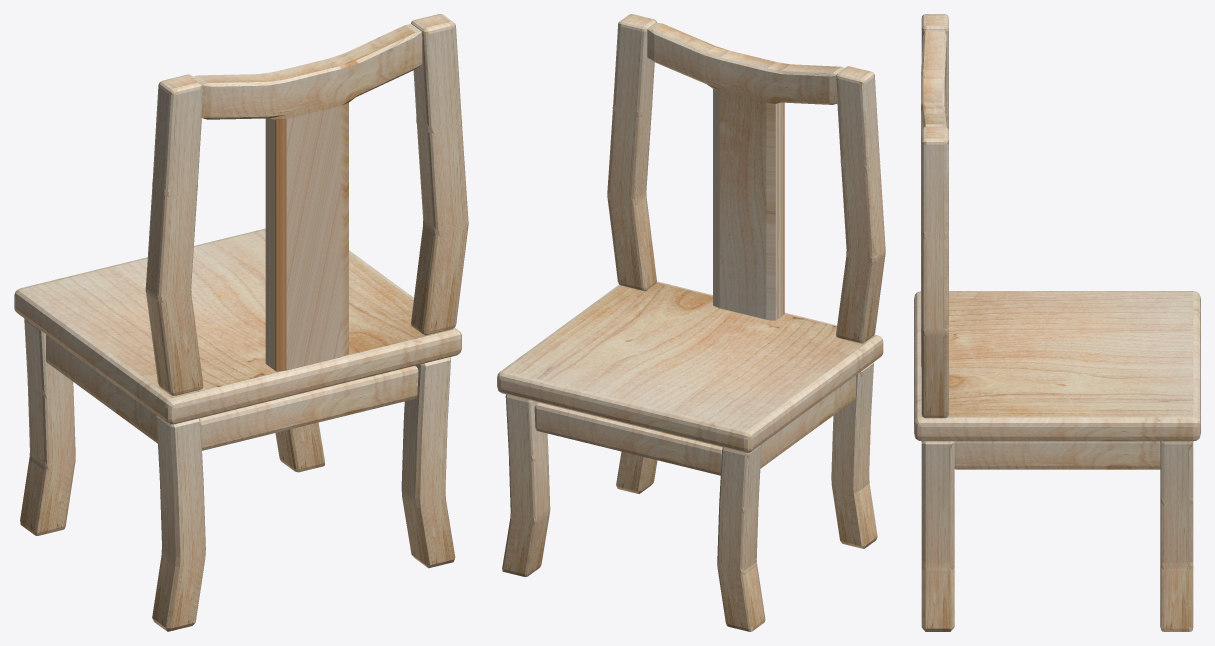
Rendered from obj_chair_0102b2.glb.
3 renders of one model, left to right at view 1: azimuth 30°, elevation 25°; view 2: azimuth 150°, elevation 25°; view 3: azimuth 270°, elevation 25°, orthographic. The views are drawn at different scales.
Parts seen in each view (by area): view 1: obj_chair_0102b2; view 2: obj_chair_0102b2; view 3: obj_chair_0102b2.
Boxes of the visible parts, box(x1,y1,x2,y2) form: obj_chair_0102b2: box(14, 14, 468, 631); obj_chair_0102b2: box(497, 14, 885, 631); obj_chair_0102b2: box(914, 14, 1200, 631).
Size of the model in its own units: 0.5104 by 0.85 by 0.4477.
Materials: 1 (1 with a texture image).
